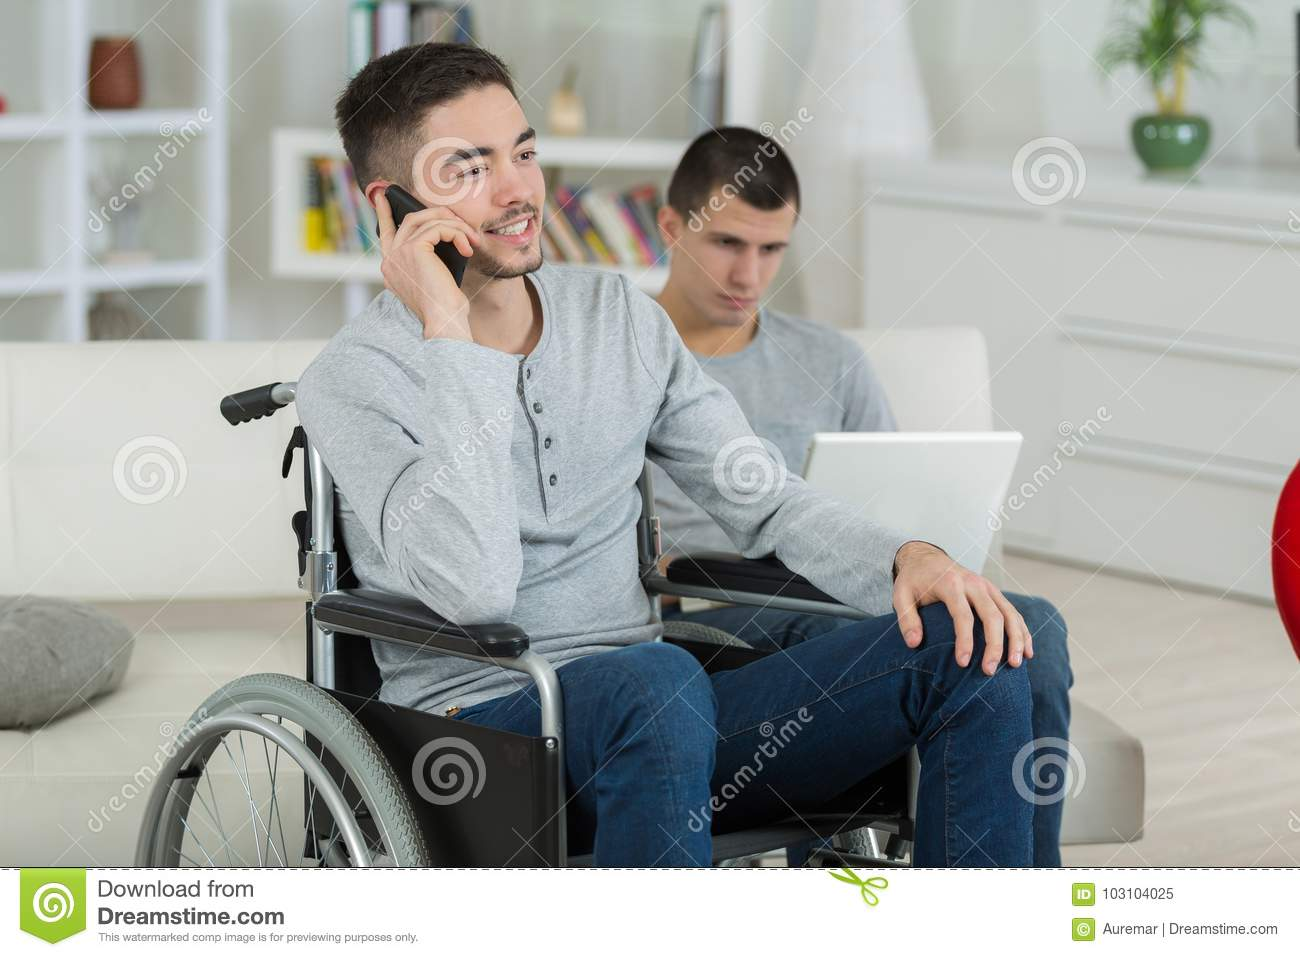phone: (378, 178, 471, 296)
talk: (378, 126, 545, 349)
